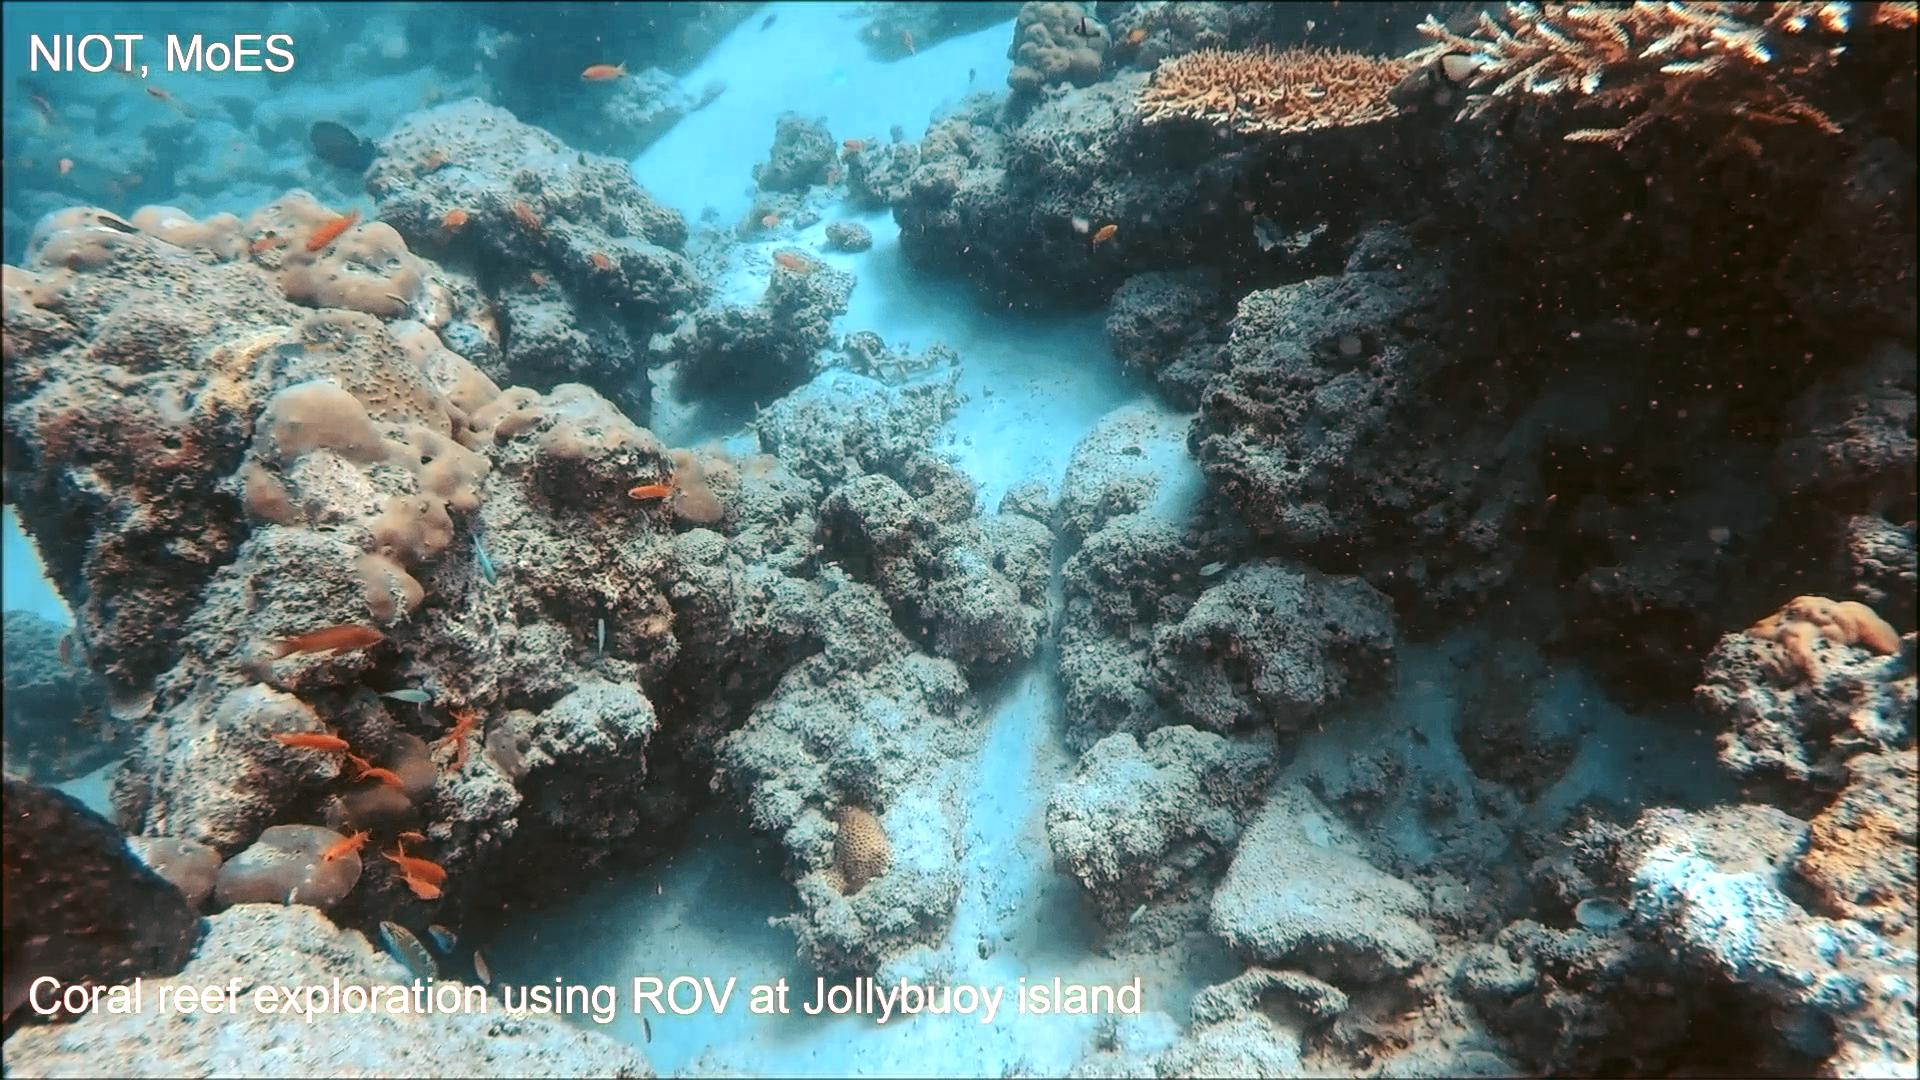Porites-Porites pukoensis: (203, 182, 550, 636)
